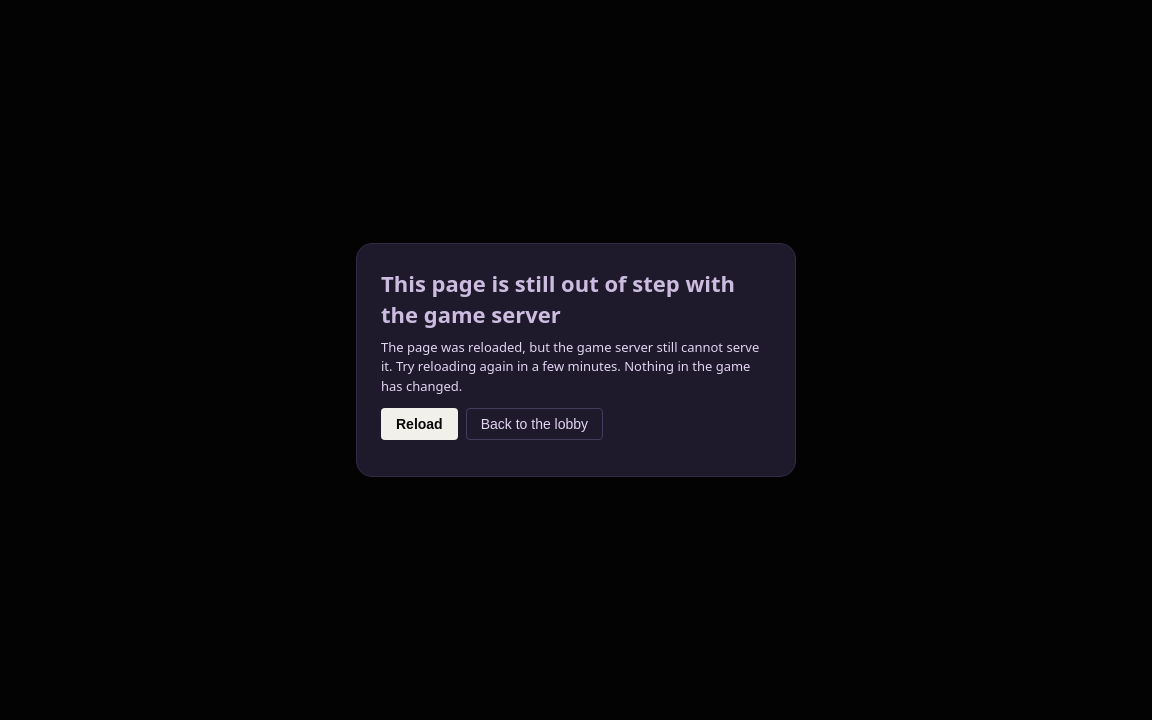
Test: ClientUpdateNotice › an answer about one table offers the way back to the lobby: the tab forgets the table, nothing else is written, and the page reloads
Later steps or results of the test are not shown.
Click the button with test id "client-update-lobby": click(534, 424) [466,408,603,440]
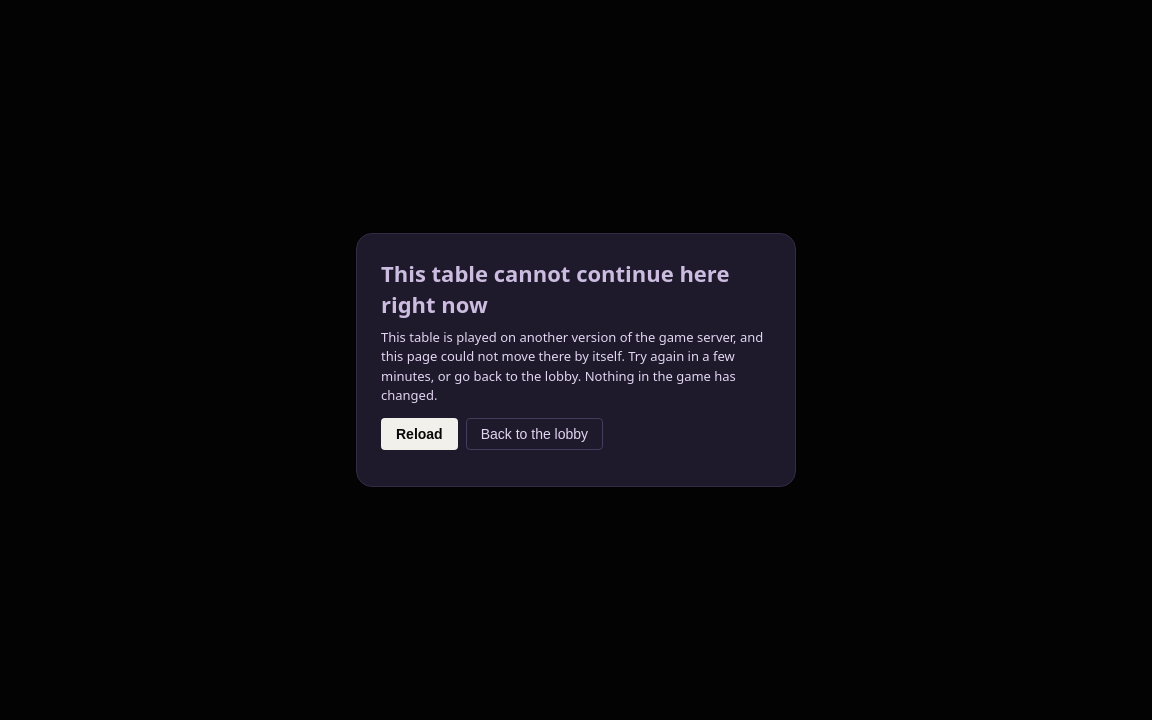
Expected: the button with test id "client-update-lobby" is shown, [466,418,603,450]
Now the text "could not move there by itself" is shown, box [381,328,763,404]
